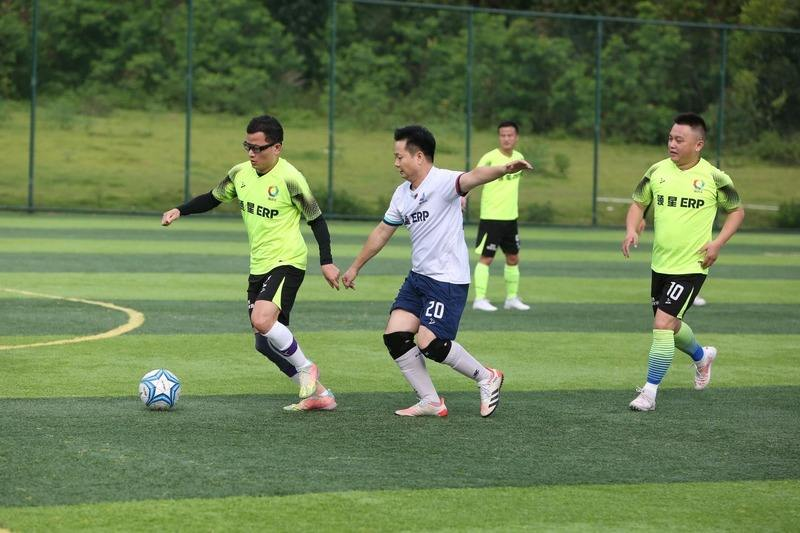football: (139, 368, 183, 411)
